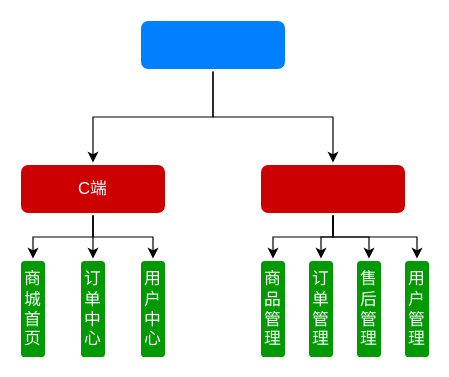
The diagram is 449 pixels wide and 377 high, and some of its shapes have lost their labels. Each missing label, with the centre of its shape:
"商城" belongs at (x=212, y=44).
"管理端" belongs at (x=332, y=188).
